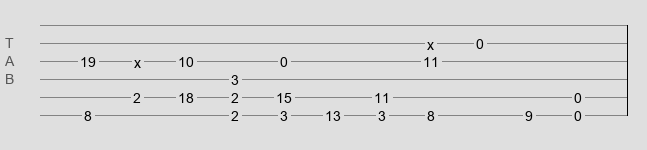0: (280, 54, 288, 64), (476, 36, 484, 46), (574, 108, 582, 118), (574, 90, 582, 100)
10: (178, 54, 194, 64)
11: (374, 90, 390, 100), (423, 54, 439, 64)
13: (325, 108, 341, 118)
15: (276, 90, 292, 100)
18: (178, 90, 194, 100)
19: (80, 54, 96, 64)
2: (133, 90, 141, 100), (231, 90, 239, 100), (231, 108, 239, 118)
3: (231, 72, 239, 82), (280, 108, 288, 118), (378, 108, 386, 118)
8: (84, 108, 92, 118), (427, 108, 435, 118)
9: (525, 108, 533, 118)
x: (134, 55, 141, 63), (427, 37, 434, 45)
